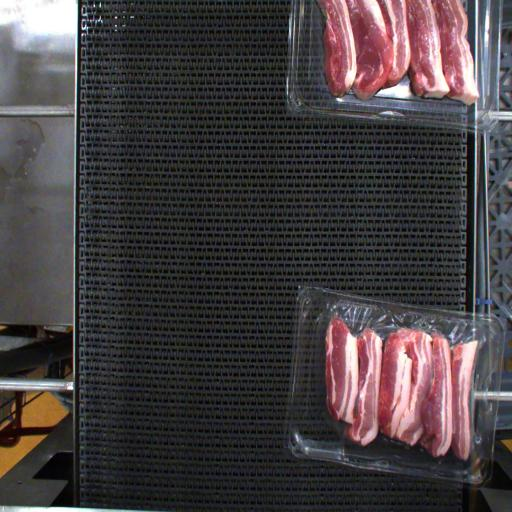unsealed: (305, 288, 493, 444)
